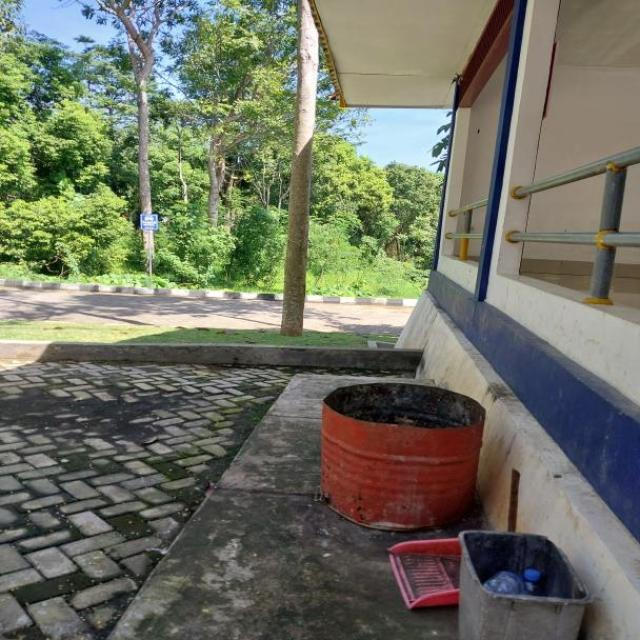dustbin ahead at: (318, 374, 495, 534), (462, 521, 582, 640)
tree ahead at: (278, 0, 324, 338)
